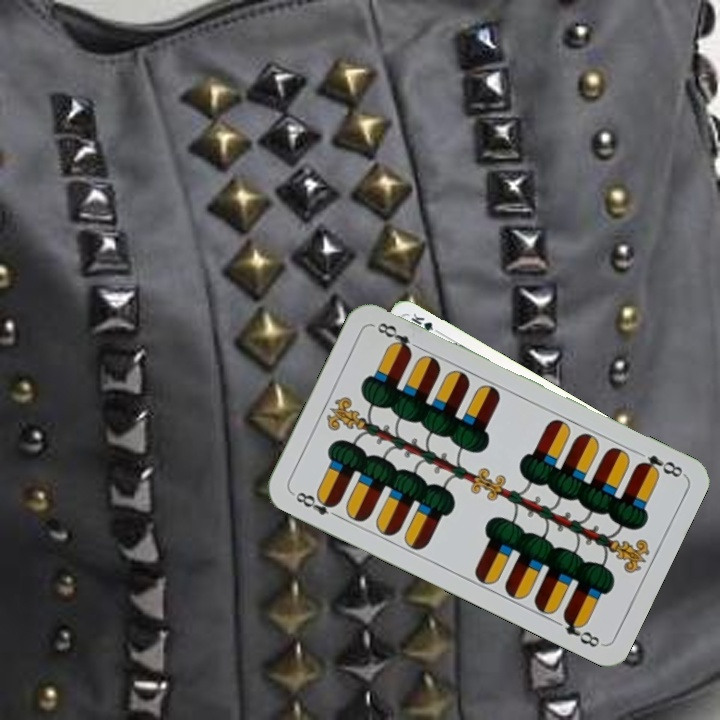E8: (288, 487, 343, 521), (633, 450, 685, 480)
